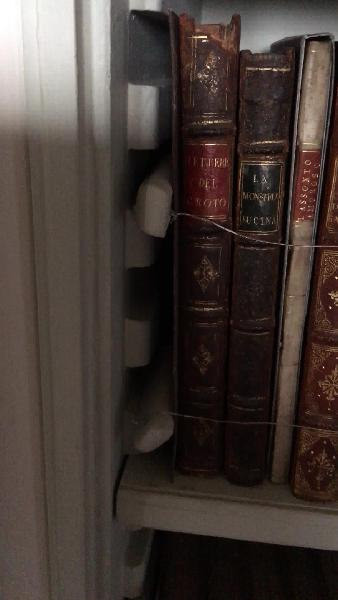Aa6-1: (160, 4, 241, 492)
Aa6-2: (234, 41, 293, 494)
Aa6-3: (271, 19, 332, 499)
